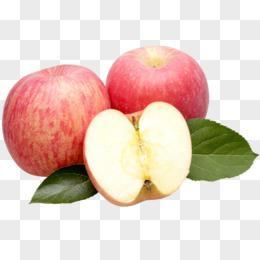apple: (1, 64, 110, 175), (82, 100, 191, 204), (106, 44, 209, 123)
